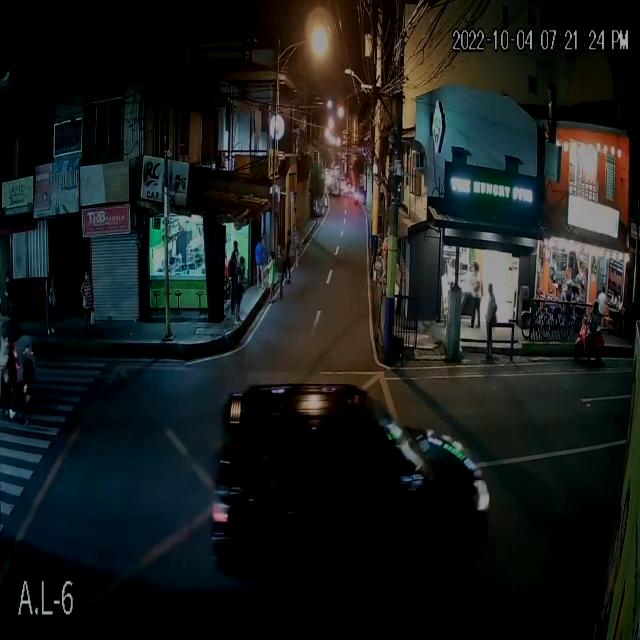Full-Faced: (3, 336, 15, 358)
